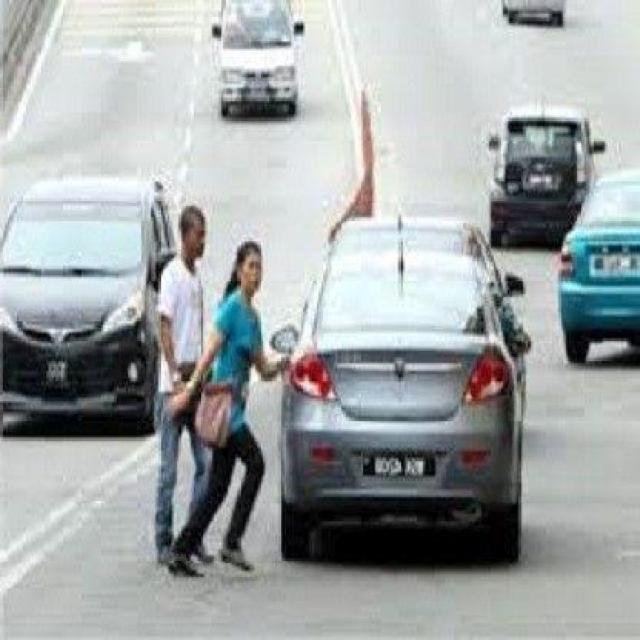Person: (166, 240, 289, 574), (131, 203, 215, 566)
